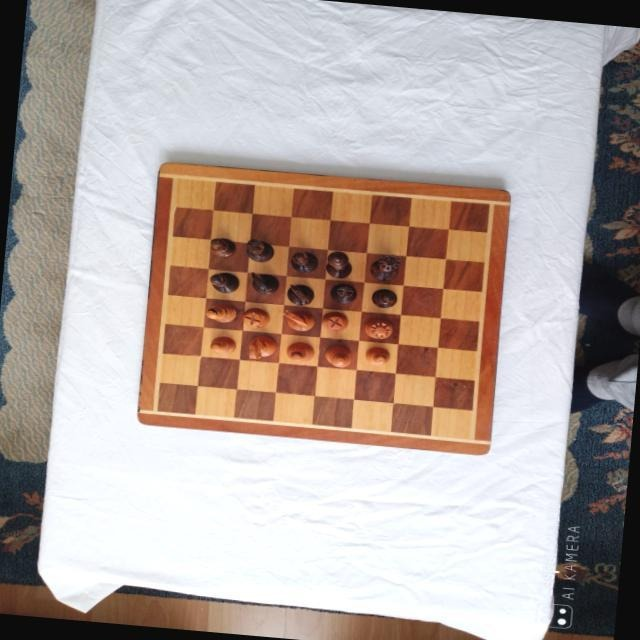black-bishop: (207, 270, 240, 294), (289, 249, 319, 272)
black-king: (323, 249, 353, 279)
black-knight: (249, 270, 279, 294), (285, 282, 315, 306)
black-pawn: (208, 235, 236, 257), (370, 287, 398, 309)
black-queen: (367, 250, 401, 281)
black-rook: (243, 237, 275, 263), (327, 281, 357, 303)
white-bishop: (204, 300, 238, 323), (285, 339, 315, 363)
white-king: (322, 342, 353, 367)
white-knight: (280, 306, 315, 331), (247, 334, 277, 362)
white-pawn: (207, 333, 237, 354), (363, 343, 391, 364)
white-queen: (362, 315, 394, 340)
white-rook: (319, 309, 349, 331), (241, 305, 271, 327)
